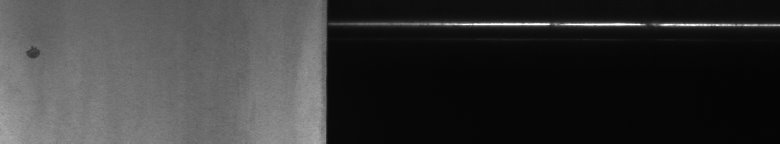fi: (24, 41, 44, 64)
